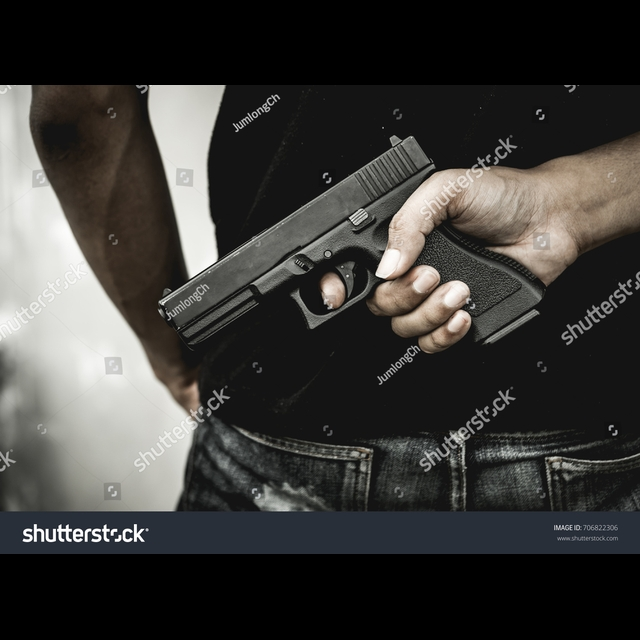SILAH: (143, 129, 557, 354)
